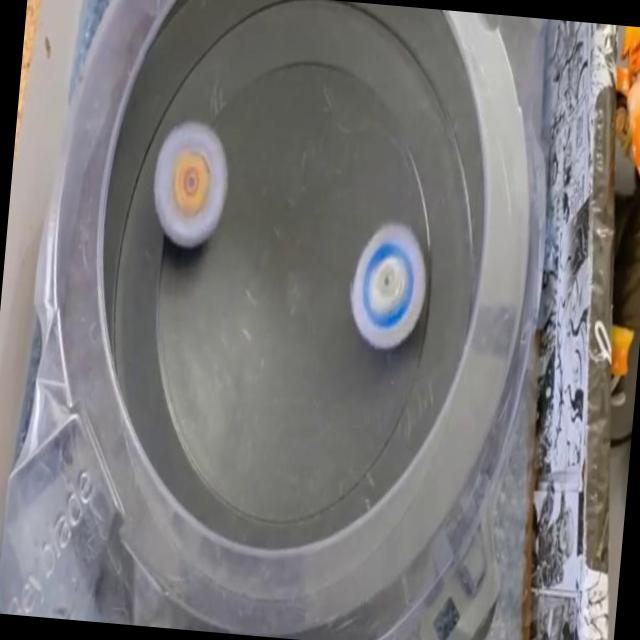Beyblade: (345, 218, 432, 353), (148, 121, 232, 248)
